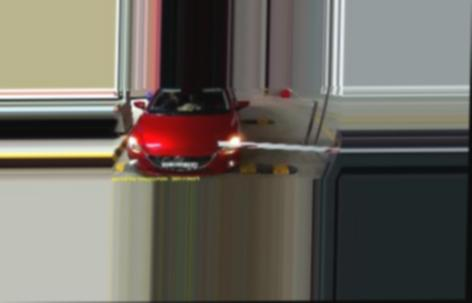License_Plate: (161, 158, 200, 171)
